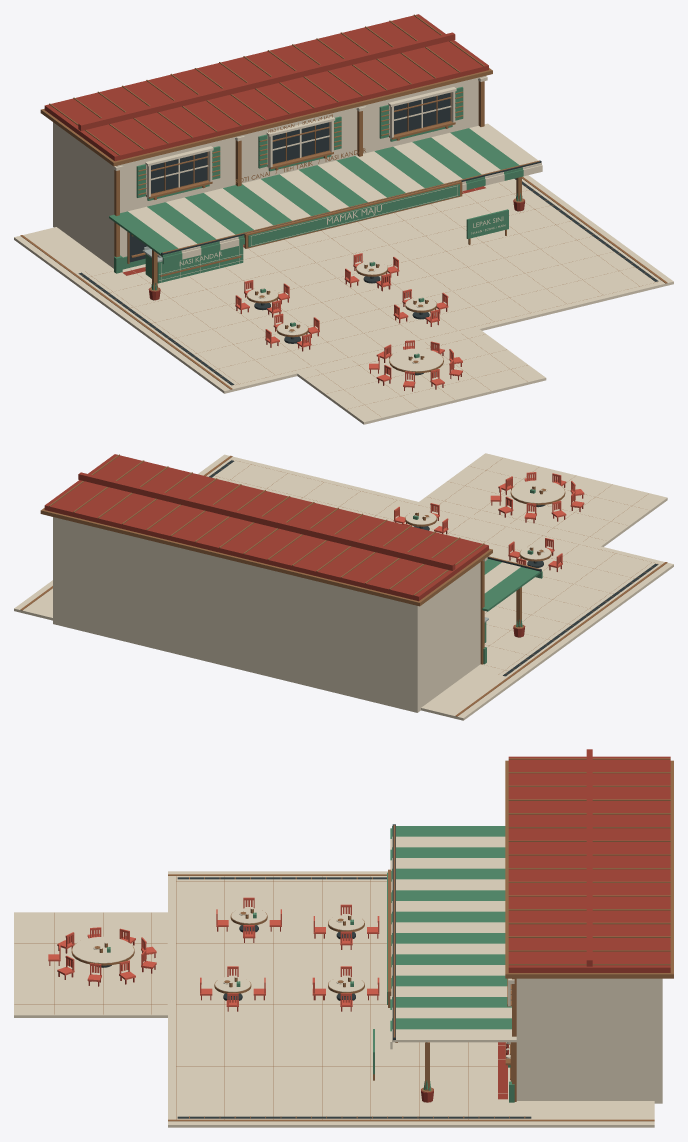
The model's file is LM_ENV_MamakMaju.glb.
The picture shows the model from 3 angles, top to bottom: view 1: azimuth 30°, elevation 25°; view 2: azimuth 150°, elevation 25°; view 3: azimuth 270°, elevation 25°; orthographic projection. The views are drawn at different scales.
Parts seen in each view (by area): view 1: LM_ENV_MamakMaju; view 2: LM_ENV_MamakMaju; view 3: LM_ENV_MamakMaju.
Part boxes in pixels (<box>): LM_ENV_MamakMaju: <box>14,14,673,424</box>; LM_ENV_MamakMaju: <box>14,453,673,720</box>; LM_ENV_MamakMaju: <box>14,749,673,1127</box>.
Bounding box in the file's own units: 37 × 9.95 × 40.7.
